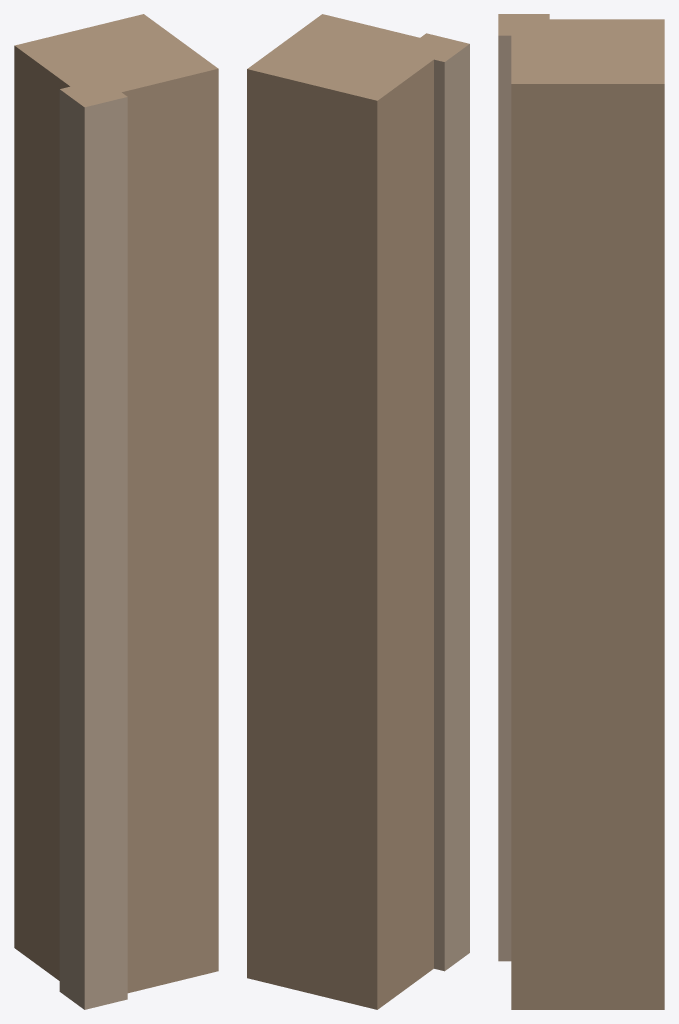
Rendered from Structure_Exterior_Wall_Corner.obj.
3 views of the same model, side by side, from view 1: azimuth 30°, elevation 25°; view 2: azimuth 150°, elevation 25°; view 3: azimuth 270°, elevation 25° (orthographic). The views are drawn at different scales.
Parts seen in each view (by area): view 1: object1; view 2: object1; view 3: object1.
Part boxes in pixels (bbox=[...]): object1: bbox=[14, 14, 218, 1009]; object1: bbox=[247, 14, 469, 1009]; object1: bbox=[498, 14, 664, 1009].
Bounding box in the file's own units: 0.1625 × 1 × 0.1625.
